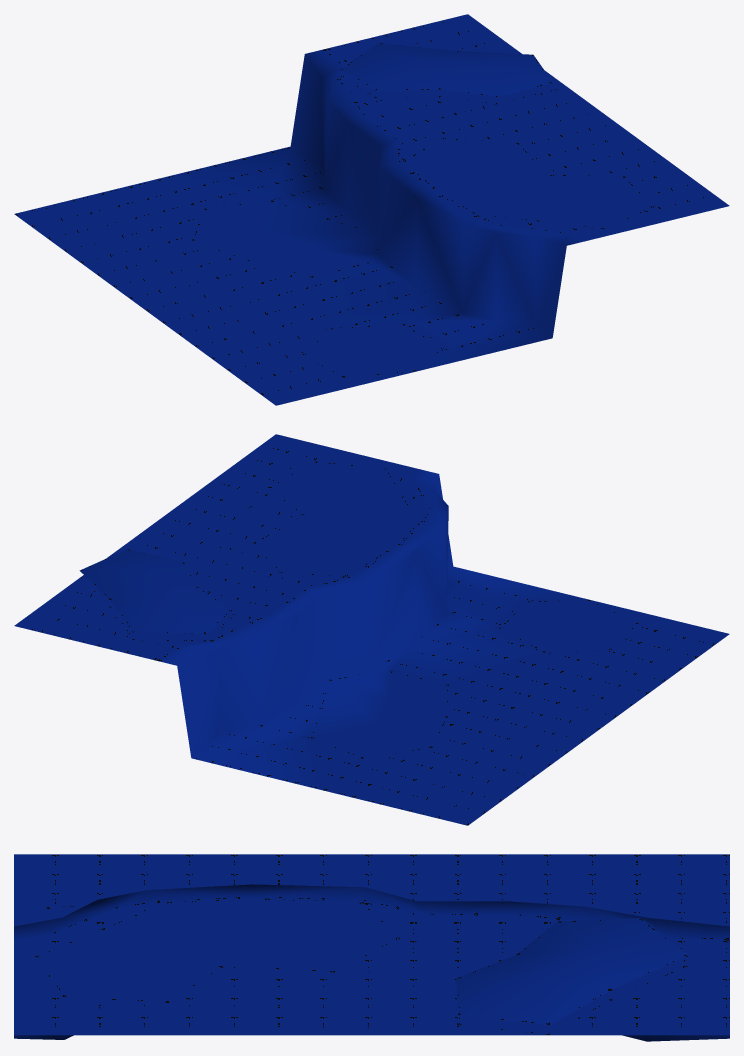
The model's file is GRD_S_C6_3.fbx.
3 views of the same model, one above another, from view 1: azimuth 30°, elevation 25°; view 2: azimuth 150°, elevation 25°; view 3: azimuth 270°, elevation 25° (orthographic). The views are drawn at different scales.
Parts seen in each view (by area): view 1: material_00022000, material_00042000, material_C0032000, material_C0012000, material_C0052000; view 2: material_00022000, material_00042000, material_C0032000, material_C0012000, material_C0052000; view 3: material_00022000, material_C0032000, material_C0012000, material_00042000, material_C0052000.
Boxes of the visible parts, bbox=[...] form: material_00022000: bbox=[14, 14, 729, 405]; material_00042000: bbox=[290, 49, 587, 337]; material_C0032000: bbox=[191, 137, 655, 377]; material_C0012000: bbox=[340, 43, 552, 96]; material_C0052000: bbox=[340, 73, 552, 104]; material_00022000: bbox=[14, 434, 729, 825]; material_00042000: bbox=[156, 469, 453, 757]; material_C0032000: bbox=[252, 461, 638, 758]; material_C0012000: bbox=[79, 549, 232, 633]; material_C0052000: bbox=[80, 575, 232, 641]; material_00022000: bbox=[14, 854, 729, 1035]; material_C0032000: bbox=[33, 898, 401, 1002]; material_C0012000: bbox=[456, 918, 688, 1024]; material_00042000: bbox=[14, 884, 729, 1041]; material_C0052000: bbox=[456, 959, 688, 1035].
Size of the model in its own units: 12800 by 2800 by 12800.
